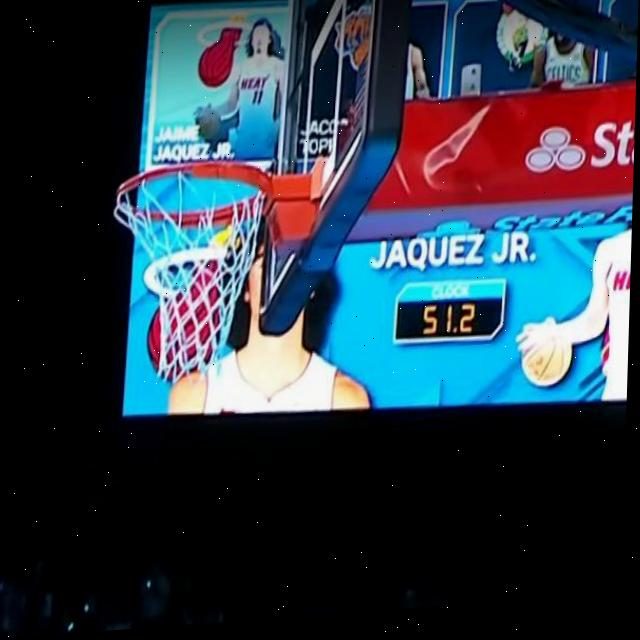hoop: (98, 135, 326, 356)
